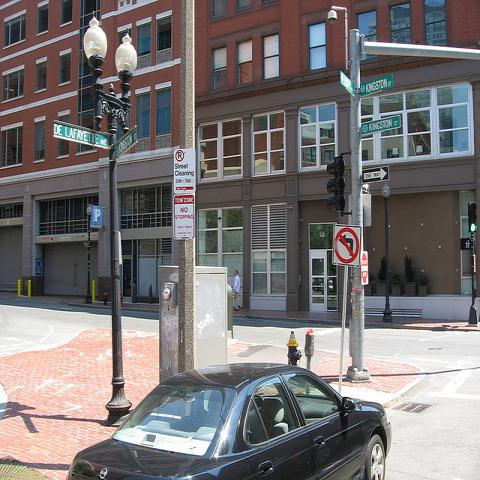car: (69, 360, 391, 473)
